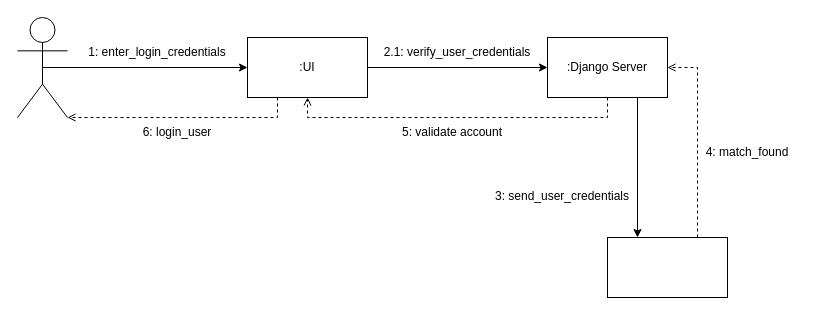
The diagram is 815 pixels wide and 315 high, and some of its shapes have lost their labels. Each missing label, with the centre of its shape:
":Database" goes at [667,267].
"User" goes at [42,67].
